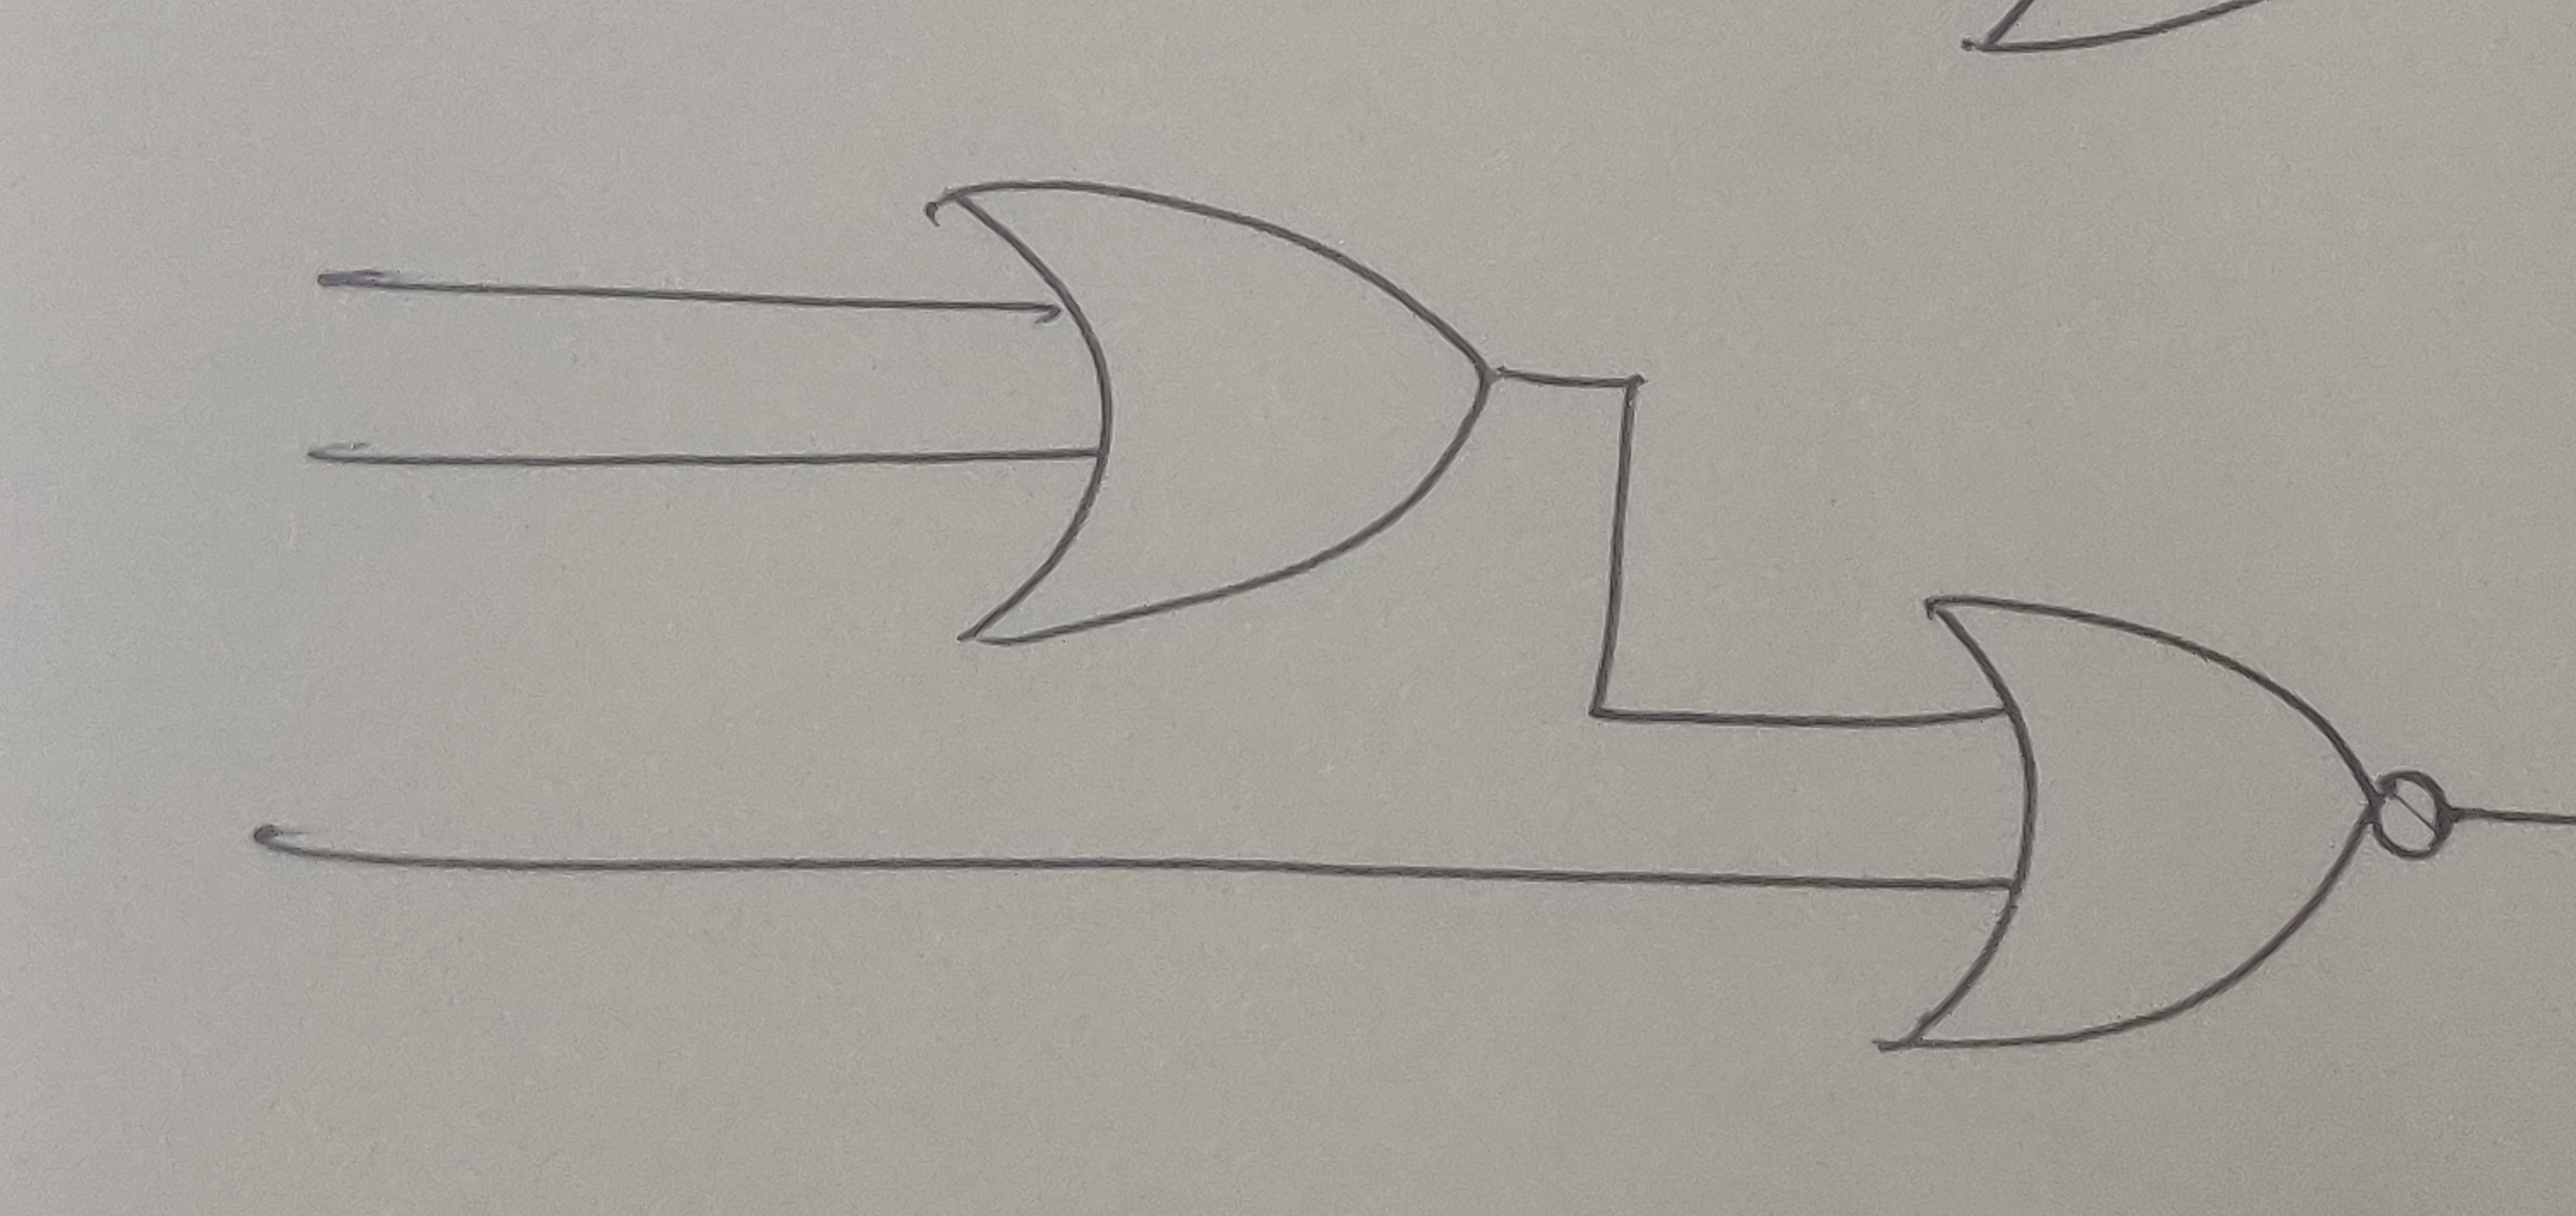not: (2366, 766, 2459, 871)
or: (930, 174, 1502, 657), (1896, 592, 2379, 1052)
